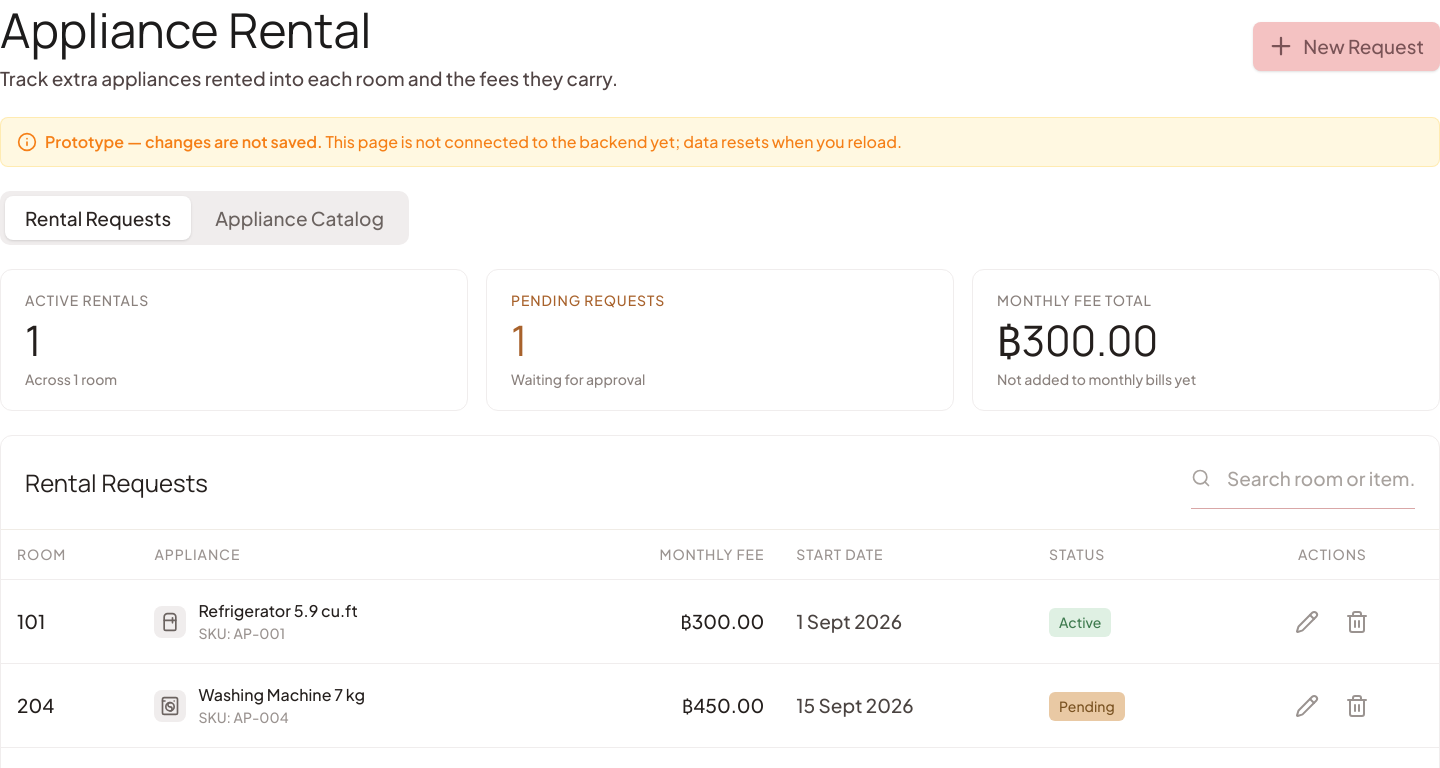
Test: SSK-96 Rental Requests tab › opens the delete confirmation and removes a rental request (BUG-A2)
Click the button named "Delete request for unit 101".
click(1357, 622)  # box 1335,600 -> 1379,644
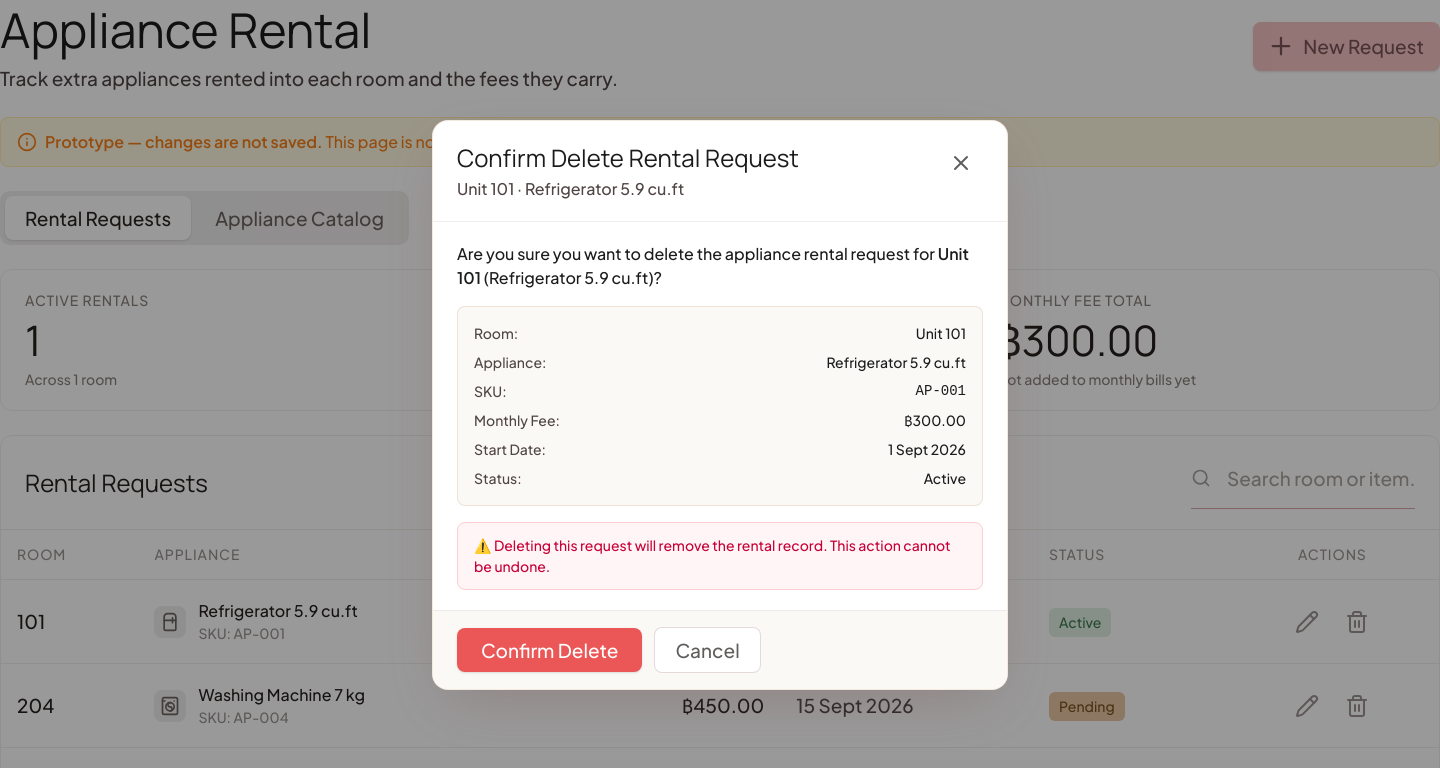
Result: the heading "Confirm Delete Rental Request" is shown at 457,141 -> 799,174
Result: the text "Are you sure you want to delete" is shown at 457,242 -> 935,264
Result: the 1st text "Unit 101" is shown at 457,242 -> 969,288
Click the button "Confirm Delete".
click(550, 650)  # box 457,628 -> 642,672
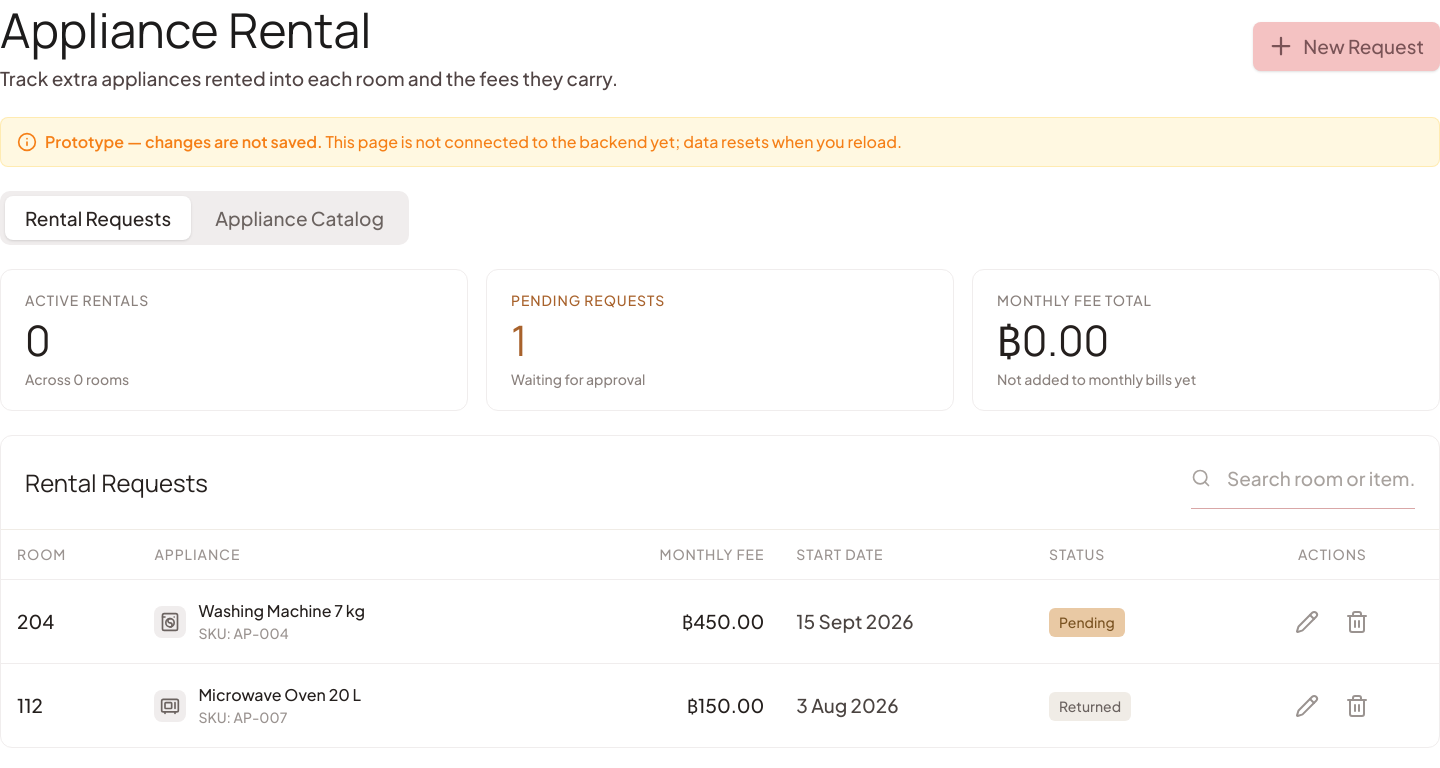
Result: the dialog is gone
Result: the text "101" is gone
